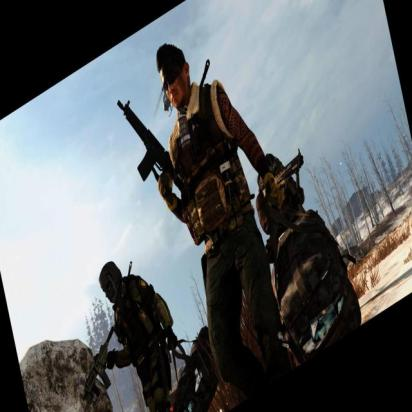Gun: (108, 63, 187, 224), (72, 318, 125, 410)
